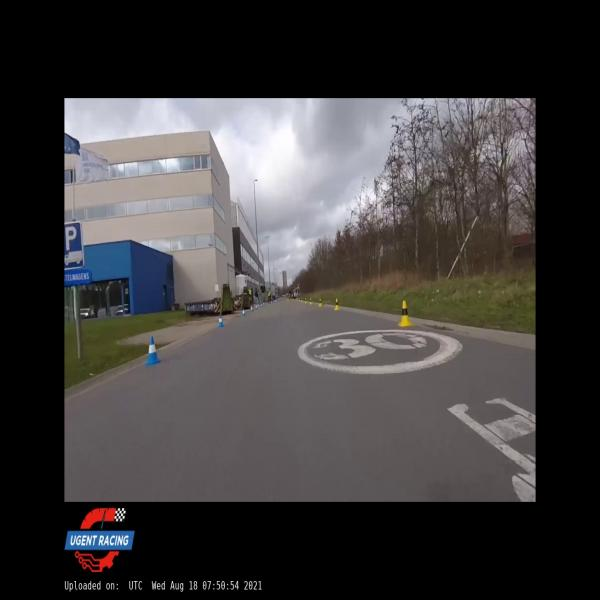blue_cone: (146, 336, 160, 366), (218, 314, 224, 328), (241, 308, 246, 317)
yellow_cone: (397, 300, 412, 326), (334, 298, 339, 311), (318, 297, 322, 307)
